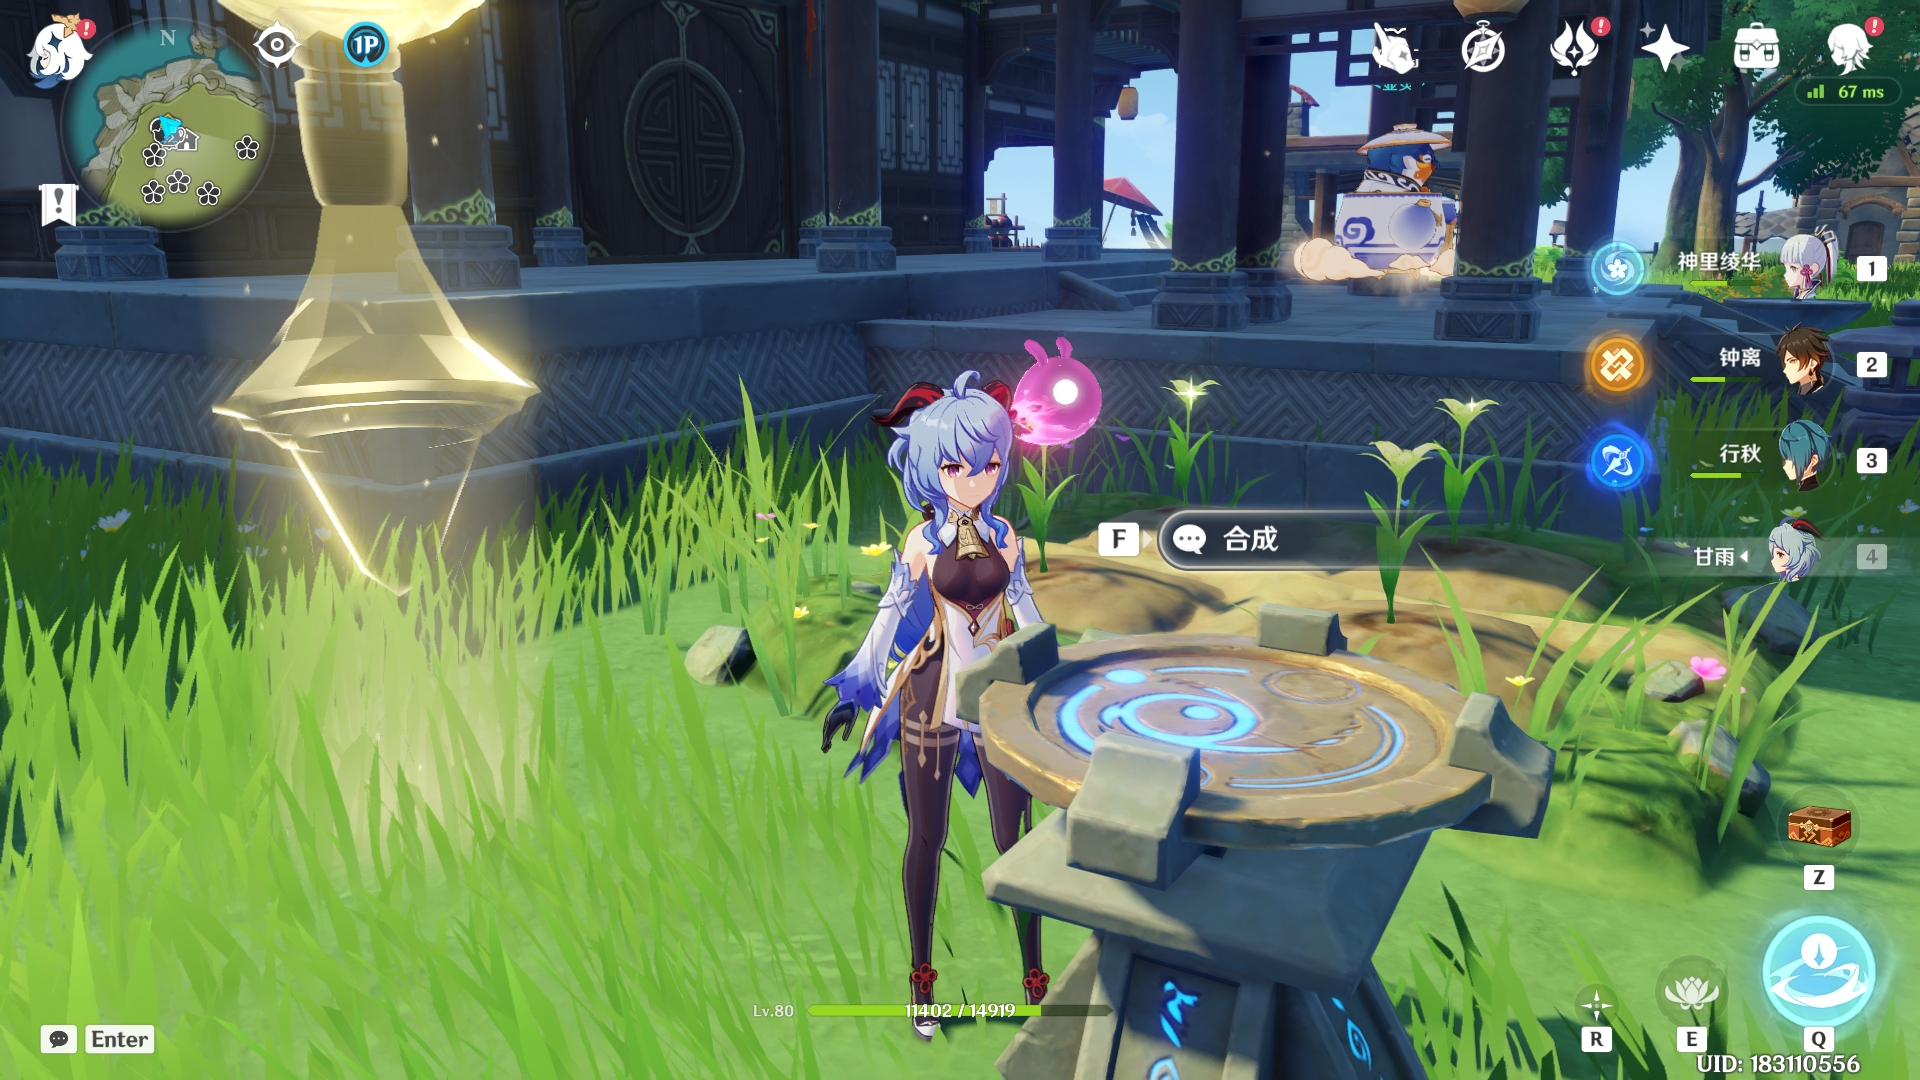character: (735, 266, 1126, 1080)
